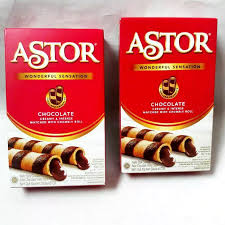Astor Chocolate (40g): (111, 13, 217, 176), (2, 23, 104, 185)
